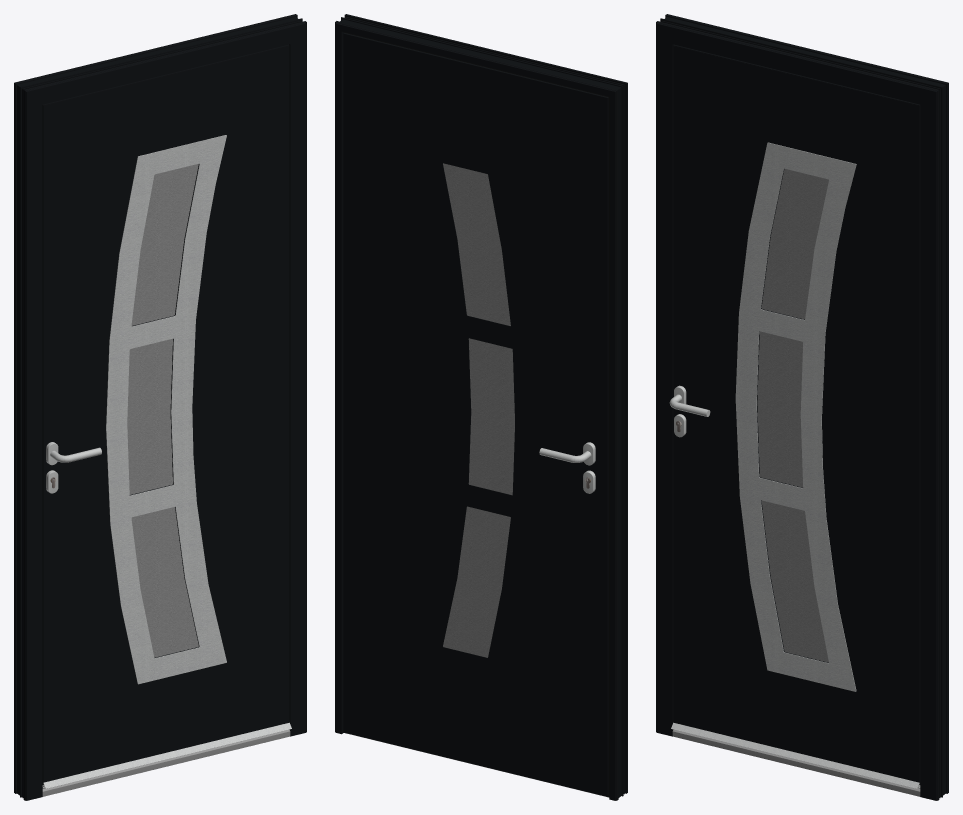
The picture shows the model from 3 angles, left to right: view 1: azimuth 30°, elevation 25°; view 2: azimuth 150°, elevation 25°; view 3: azimuth 330°, elevation 25°; orthographic projection.
Visible parts, largest first — view 1: bloco_42, aroFixo, alunox_26, Plane001, aroMovel, rodapé, escovas, puxador001; view 2: bloco_42, aroFixo, Plane002, aroMovel, puxador; view 3: bloco_42, aroFixo, alunox_26, Plane001, aroMovel, rodapé, escovas, puxador001.
Part boxes in pixels (x1,y1,x2,y2): bloco_42: (44, 46, 289, 782); aroFixo: (14, 14, 306, 800); alunox_26: (106, 135, 226, 684); Plane001: (127, 163, 198, 657); aroMovel: (42, 44, 289, 784); rodapé: (42, 729, 290, 796); escovas: (42, 722, 291, 788); puxador001: (46, 442, 101, 493); bloco_42: (344, 34, 607, 796); aroFixo: (335, 14, 627, 800); Plane002: (443, 163, 514, 657); aroMovel: (343, 32, 609, 796); puxador: (539, 442, 595, 493); bloco_42: (673, 46, 918, 782); aroFixo: (656, 14, 948, 800); alunox_26: (735, 142, 856, 691); Plane001: (757, 168, 828, 662); aroMovel: (673, 44, 920, 784); rodapé: (672, 729, 920, 796); escovas: (671, 722, 920, 788); puxador001: (669, 385, 710, 437).
Size of the model in its own units: 900 by 2165 by 209.
Materials: 7 (3 with a texture image).
